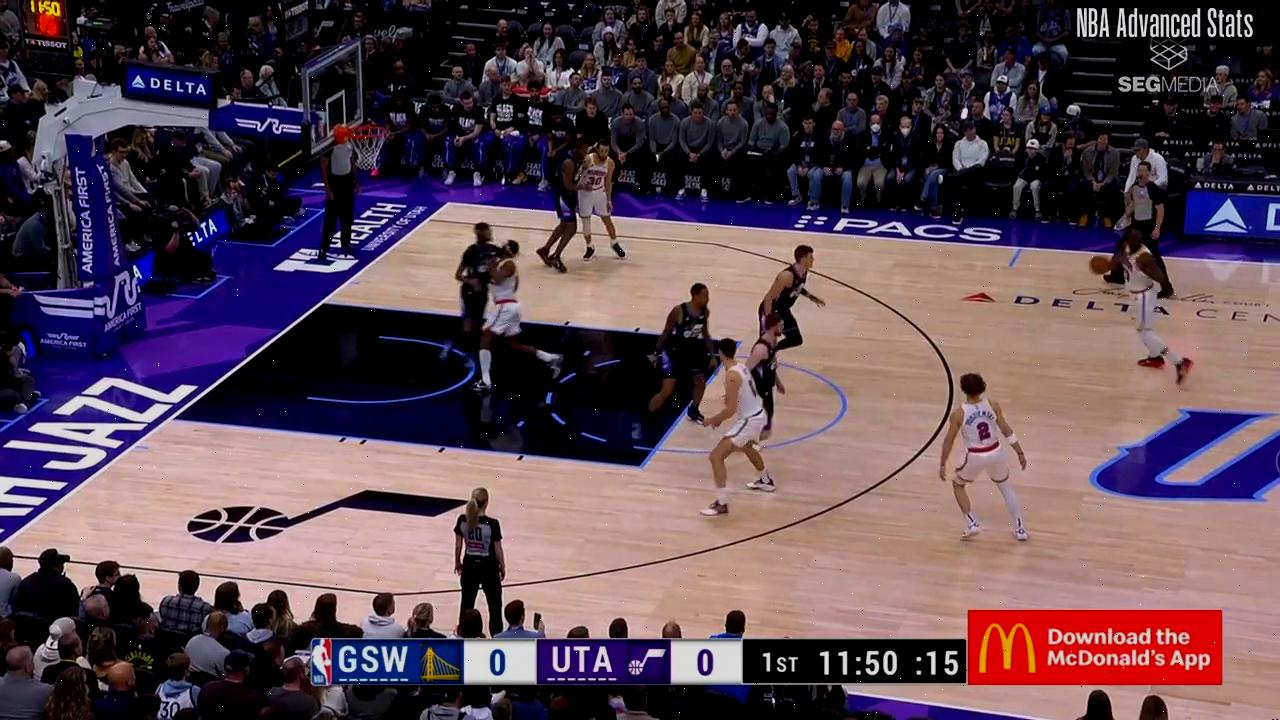basketball: (1089, 253, 1113, 279)
